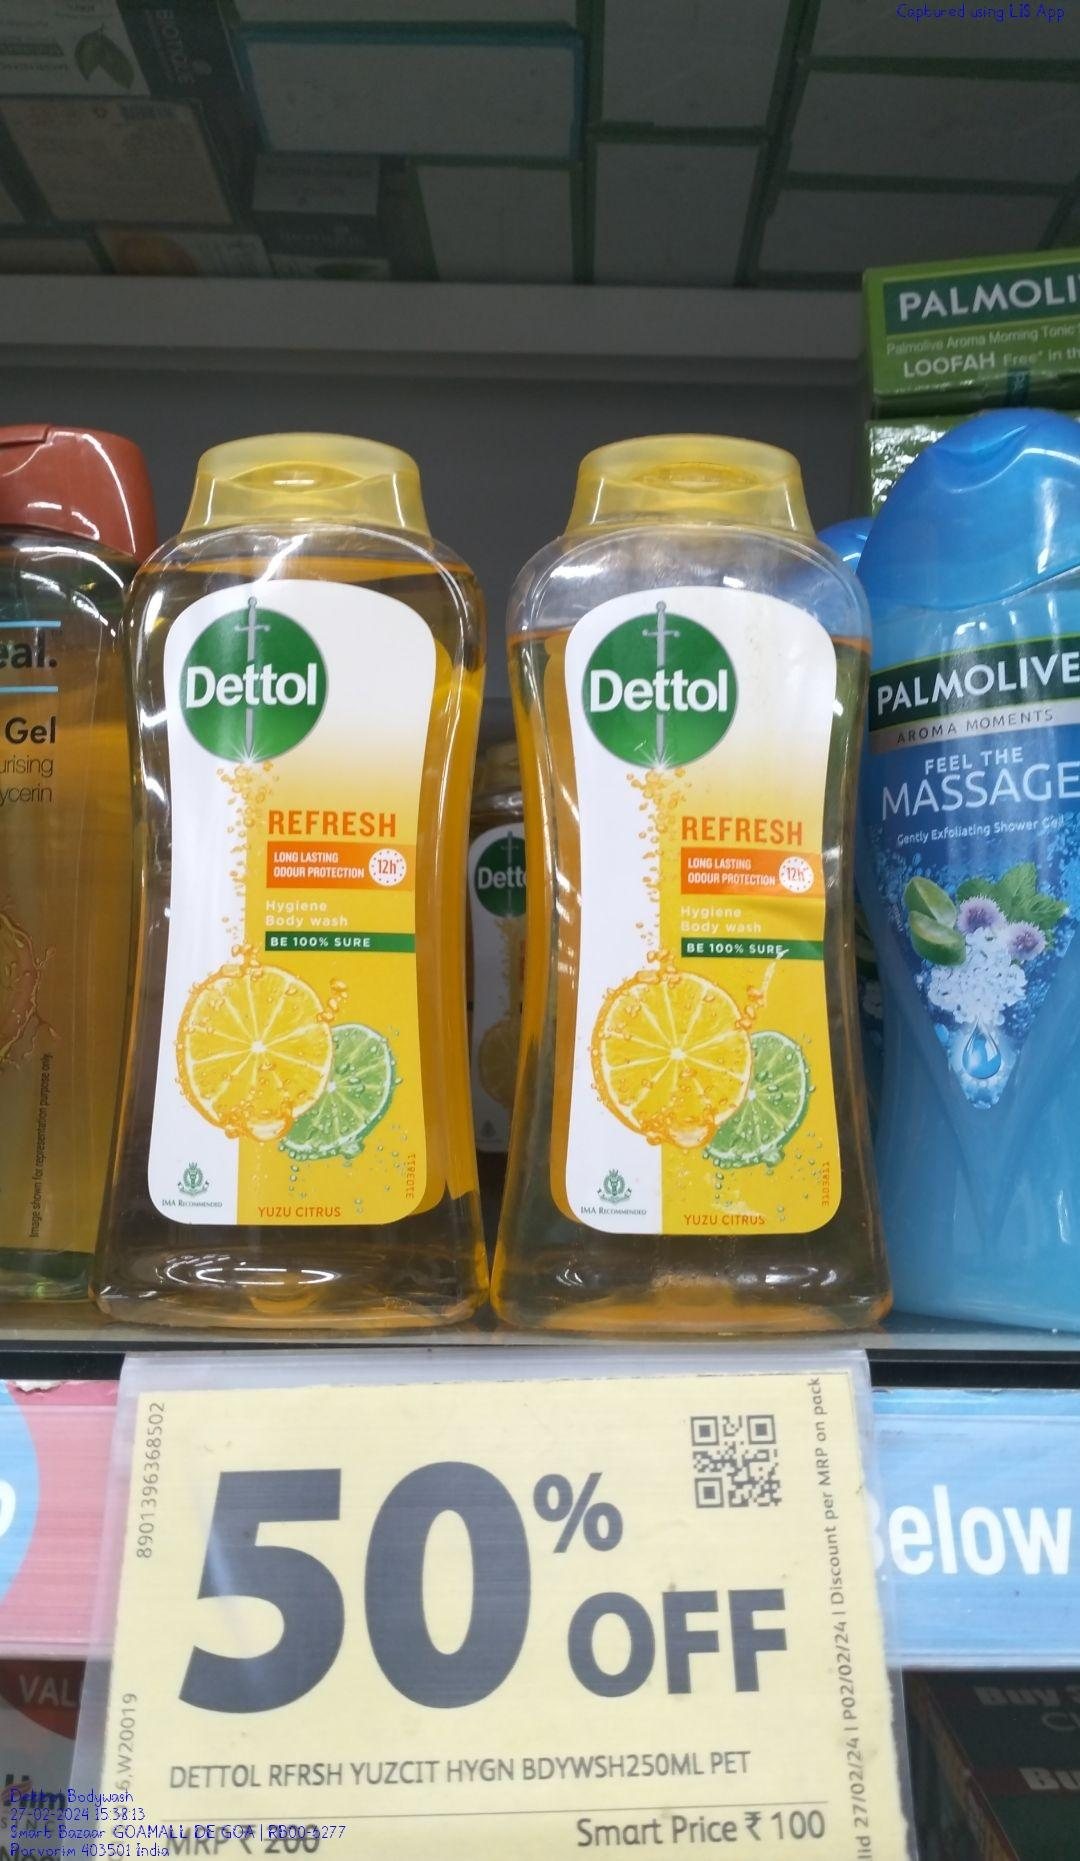Dettol_Bodywash_Refresh: (147, 410, 477, 1343), (519, 431, 854, 1343)
Palmolive_Aroma_Moments_Feel_The_Massage_Shower_Gel_250ML: (863, 387, 1080, 1353)
